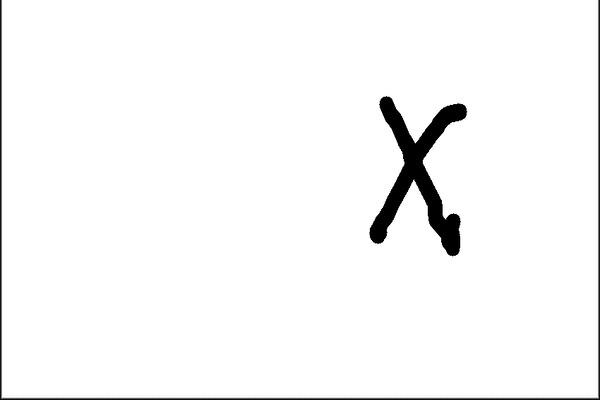X: (342, 74, 501, 264)
